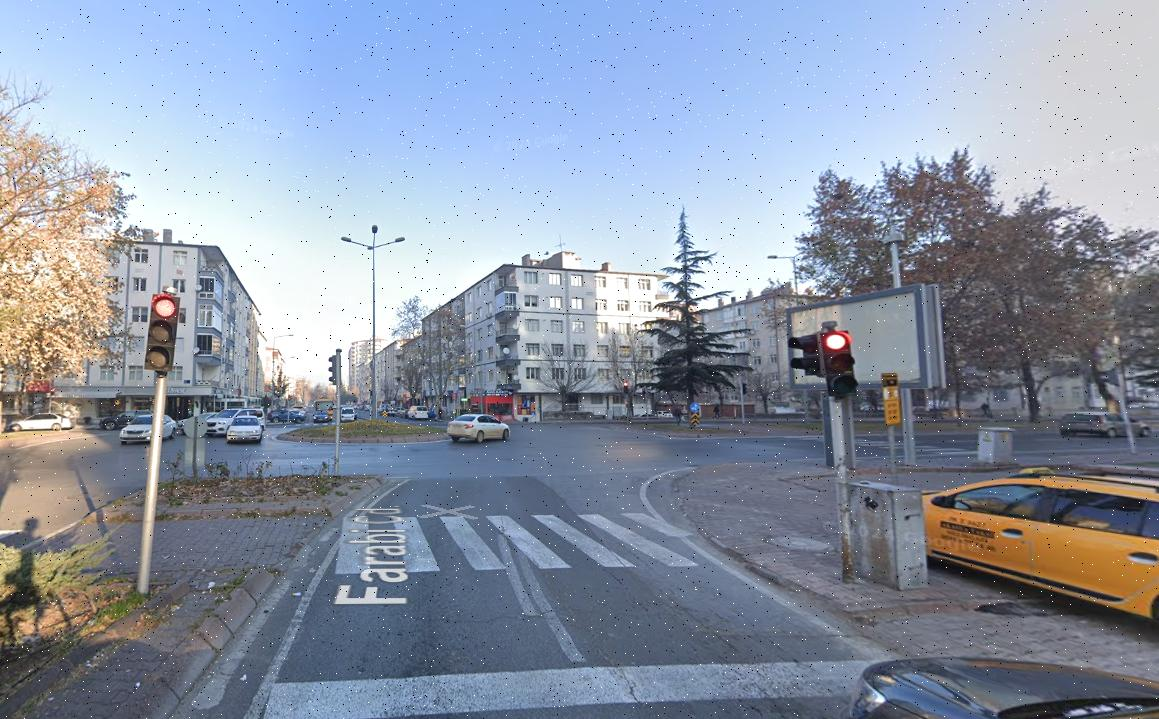redlight: (822, 330, 857, 401), (148, 293, 179, 372), (624, 382, 629, 394)
